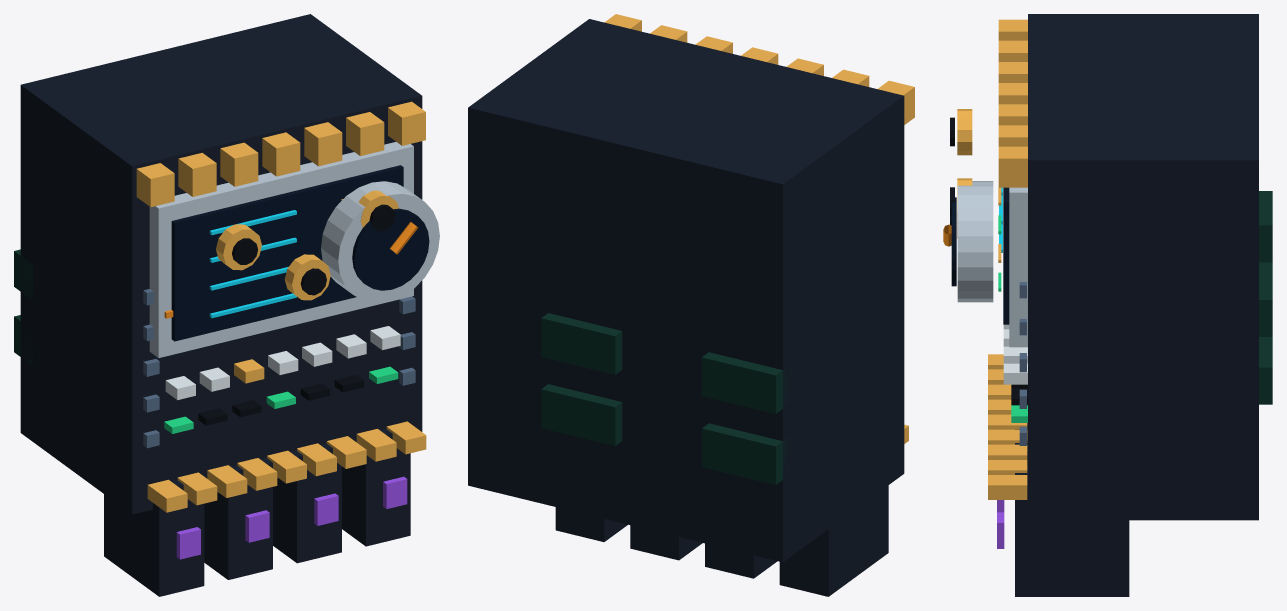
Rendered from 60_L91_EphemerisIntegrityValidator.fbx.
3 views of the same model, side by side, from view 1: azimuth 30°, elevation 25°; view 2: azimuth 150°, elevation 25°; view 3: azimuth 270°, elevation 25° (orthographic). The views are drawn at different scales.
Visible parts, largest first — view 1: L91_EphemerisIntegrityValidator, L91_EphemerisIntegrityValidator_Part_0013, L91_EphemerisIntegrityValidator_Part_0016, L91_EphemerisIntegrityValidator_Part_0014, L91_EphemerisIntegrityValidator_Part_0018; view 2: L91_EphemerisIntegrityValidator; view 3: L91_EphemerisIntegrityValidator, L91_EphemerisIntegrityValidator_Part_0014.
Part boxes in pixels (bbox=[...]): L91_EphemerisIntegrityValidator: bbox=[14, 14, 439, 596]; L91_EphemerisIntegrityValidator_Part_0013: bbox=[176, 476, 407, 559]; L91_EphemerisIntegrityValidator_Part_0016: bbox=[284, 254, 330, 300]; L91_EphemerisIntegrityValidator_Part_0014: bbox=[216, 224, 261, 270]; L91_EphemerisIntegrityValidator_Part_0018: bbox=[358, 190, 398, 227]; L91_EphemerisIntegrityValidator: bbox=[468, 14, 914, 596]; L91_EphemerisIntegrityValidator: bbox=[951, 14, 1272, 596]; L91_EphemerisIntegrityValidator_Part_0014: bbox=[957, 109, 972, 155].
Bounding box in the file's own units: 96.9 × 138 × 92.1.
